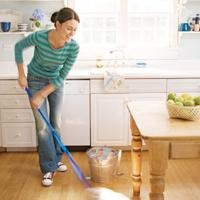person without safety: (11, 6, 82, 190)
